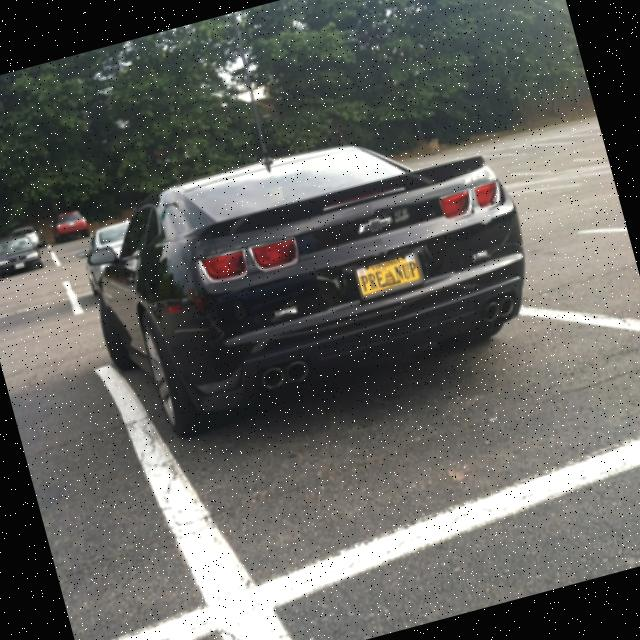Autre: (347, 250, 426, 304)
